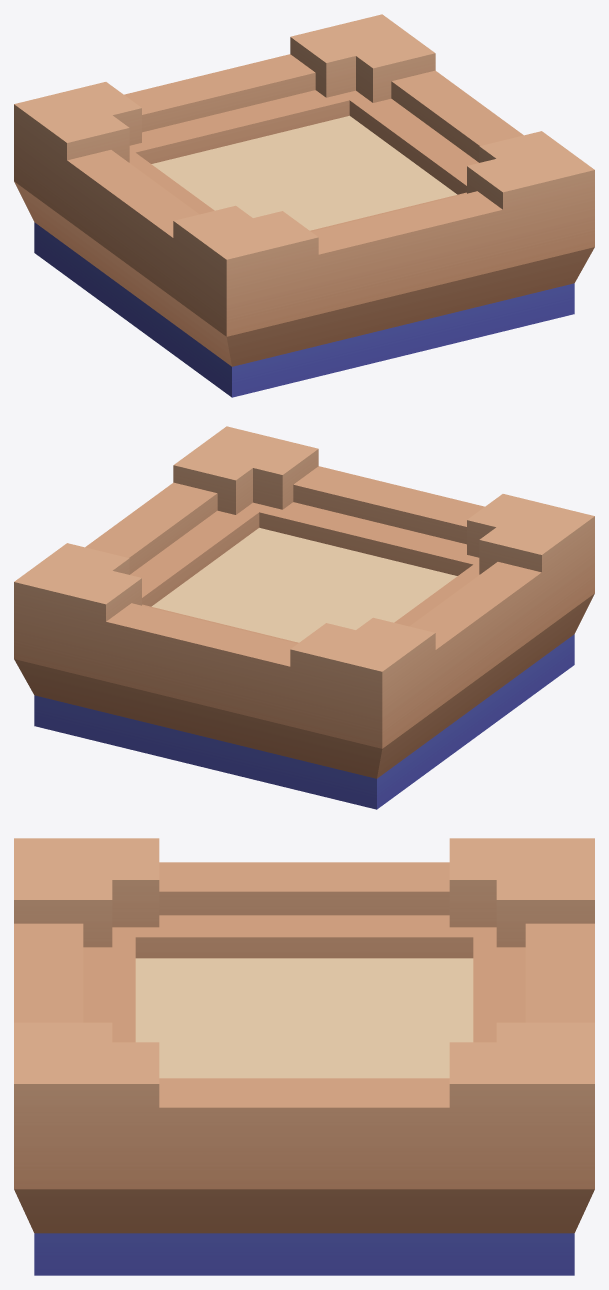
Rendered from tower-square-top-color.obj.
The picture shows the model from 3 angles, top to bottom: view 1: azimuth 30°, elevation 25°; view 2: azimuth 150°, elevation 25°; view 3: azimuth 270°, elevation 25°; orthographic projection. The views are drawn at different scales.
Parts seen in each view (by area): view 1: tower-square-top-color; view 2: tower-square-top-color; view 3: tower-square-top-color.
Part boxes in pixels (x1=…): tower-square-top-color: x1=14, y1=14, x2=594, y2=397; tower-square-top-color: x1=14, y1=426, x2=594, y2=809; tower-square-top-color: x1=14, y1=838, x2=594, y2=1275.
Size of the model in its own units: 1 by 0.38 by 1.
1 material, 1 textured.
